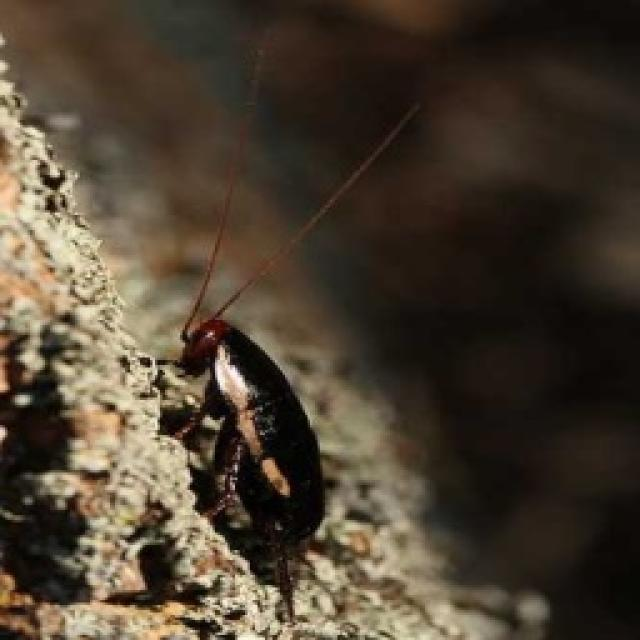cockroach: (163, 253, 342, 586)
